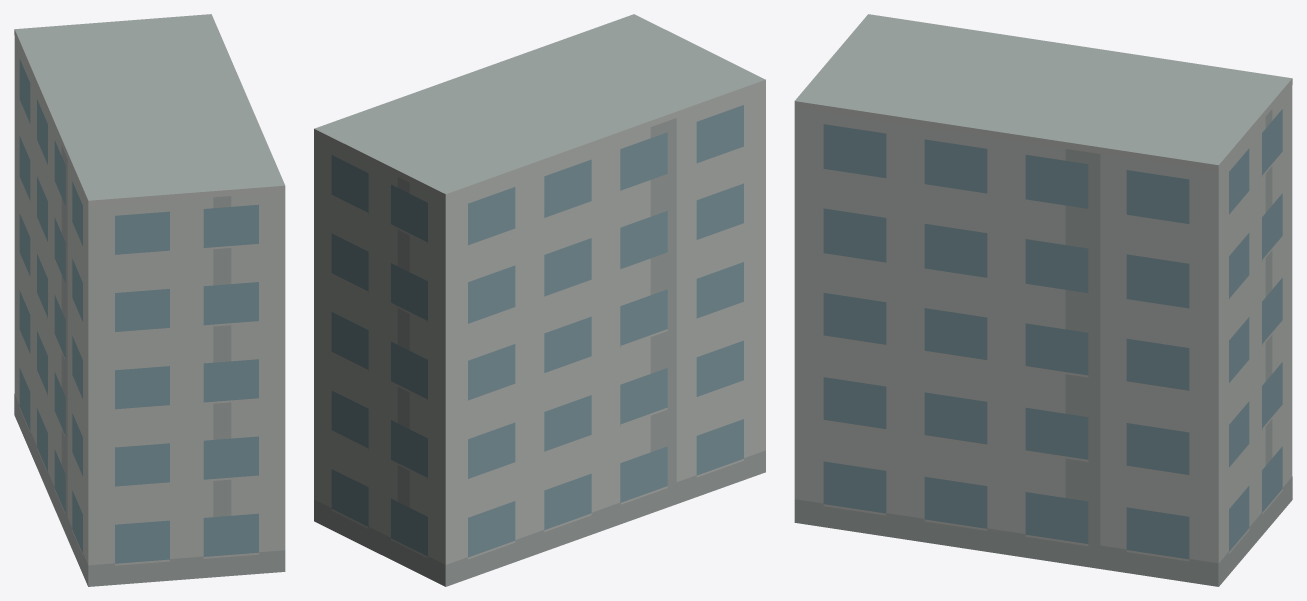
Rendered from residential-43fbc9f9-200d-4a45-b35b-3079fc1f35be.glb.
The picture shows the model from 3 angles, left to right: view 1: azimuth 30°, elevation 25°; view 2: azimuth 150°, elevation 25°; view 3: azimuth 270°, elevation 25°; orthographic projection. The views are drawn at different scales.
Parts seen in each view (by area): view 1: residential-43fbc9f9-200d-4a45-b35b-3079fc1f35be.tmp; view 2: residential-43fbc9f9-200d-4a45-b35b-3079fc1f35be.tmp; view 3: residential-43fbc9f9-200d-4a45-b35b-3079fc1f35be.tmp.
Boxes of the visible parts, box(x1,y1,x2,y2) form: residential-43fbc9f9-200d-4a45-b35b-3079fc1f35be.tmp: box(14, 14, 285, 586); residential-43fbc9f9-200d-4a45-b35b-3079fc1f35be.tmp: box(314, 14, 765, 586); residential-43fbc9f9-200d-4a45-b35b-3079fc1f35be.tmp: box(794, 14, 1292, 586).
Size of the model in its own units: 11.74 by 15.25 by 16.33.
